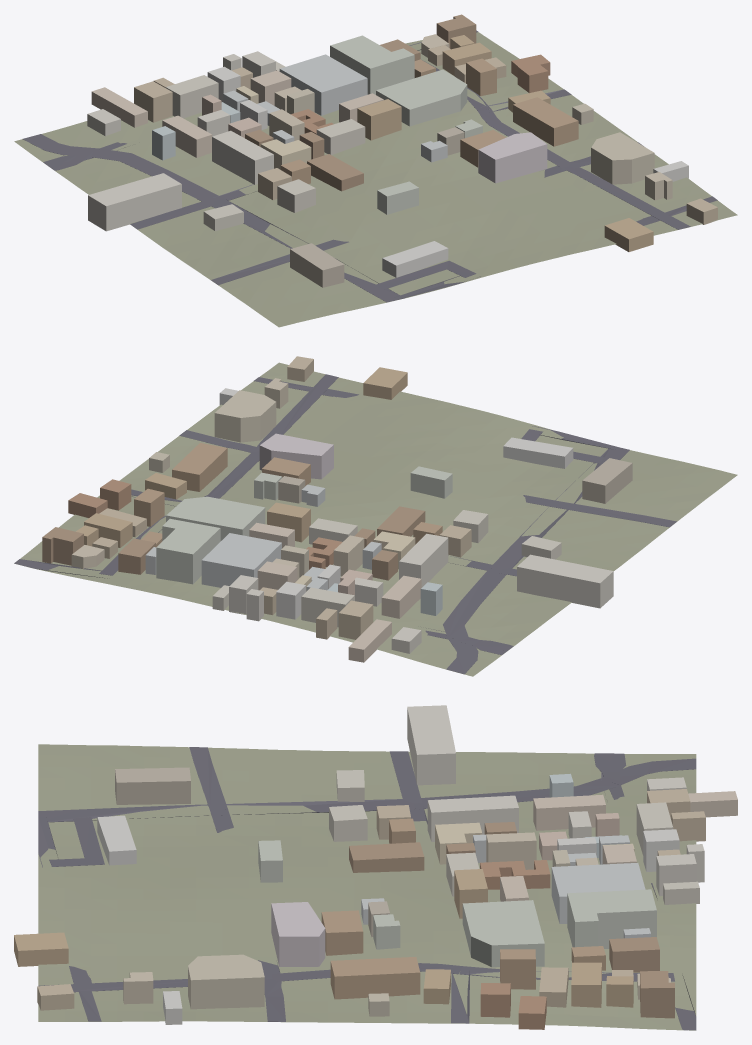
The model's file is chunk_6_7.glb.
3 views of the same model, one above another, from view 1: azimuth 30°, elevation 25°; view 2: azimuth 150°, elevation 25°; view 3: azimuth 270°, elevation 25° (orthographic). The views are drawn at different scales.
Parts seen in each view (by area): view 1: geometry_70, geometry_31, geometry_40, geometry_41, geometry_42, geometry_66, geometry_17, geometry_15, geometry_57, geometry_20, geometry_4, geometry_28 (+39 smaller); view 2: geometry_70, geometry_31, geometry_42, geometry_41, geometry_17, geometry_40, geometry_66, geometry_15, geometry_57, geometry_20, geometry_74, geometry_4 (+47 smaller); view 3: geometry_70, geometry_42, geometry_40, geometry_17, geometry_31, geometry_15, geometry_66, geometry_41, geometry_20, geometry_57, geometry_78, geometry_12 (+54 smaller).
Boxes of the visible parts, x1,y1,x2,y2 form: geometry_70: (14,32,737,327); geometry_31: (88,173,181,231); geometry_40: (376,69,467,126); geometry_41: (279,54,367,115); geometry_42: (330,35,414,94); geometry_66: (478,132,547,183); geometry_17: (591,132,654,184); geometry_15: (513,97,578,146); geometry_57: (212,130,273,184); geometry_20: (290,243,344,287); geometry_4: (382,241,448,277); geometry_28: (165,75,218,118); geometry_70: (16,362,737,676); geometry_31: (517,554,613,608); geometry_42: (156,518,220,584); geometry_41: (201,533,281,587); geometry_17: (214,390,276,442); geometry_40: (166,496,265,540); geometry_66: (259,433,333,479); geometry_15: (172,443,227,491); geometry_57: (399,533,448,587); geometry_20: (582,458,632,503); geometry_74: (443,568,506,638); geometry_4: (503,437,573,468); geometry_70: (38,744,696,1030); geometry_42: (567,889,656,948); geometry_40: (462,900,544,967); geometry_17: (188,954,264,1009); geometry_31: (407,705,455,785); geometry_15: (330,957,420,999); geometry_66: (271,902,325,966); geometry_41: (551,863,645,923); geometry_20: (115,767,190,804); geometry_57: (427,795,518,841); geometry_78: (38,799,414,822); geometry_12: (349,842,424,872).
Size of the model in its own units: 268 by 18.96 by 275.
